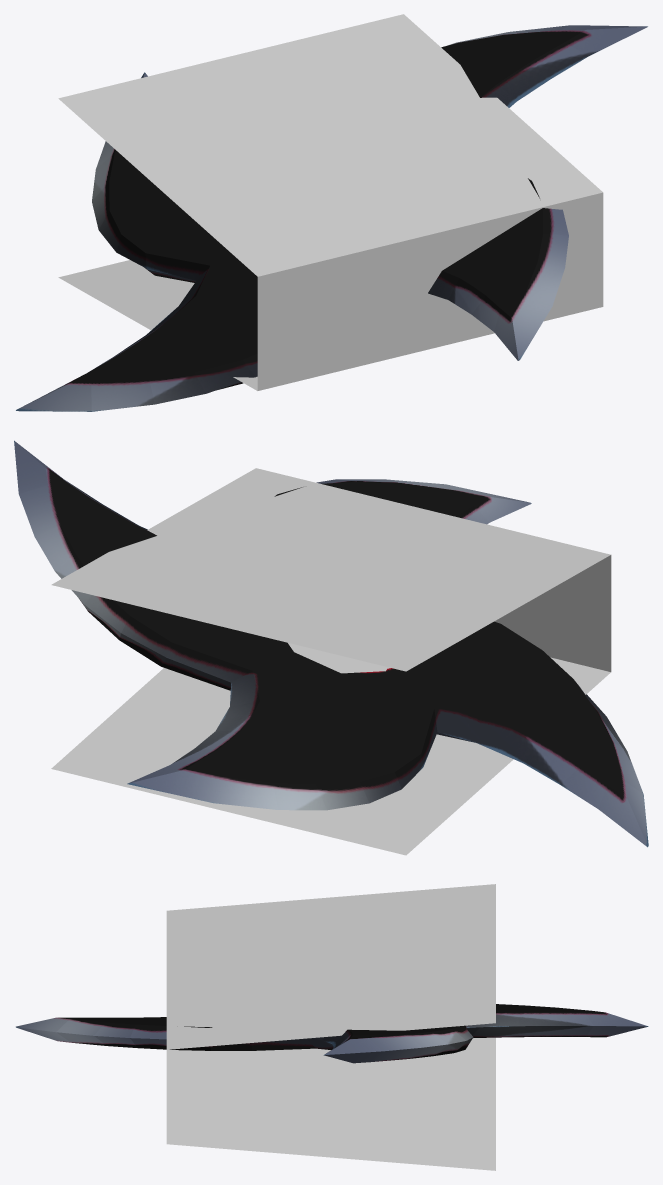
File: Shuriken.fbx
3 renders of one model, top to bottom at view 1: azimuth 30°, elevation 25°; view 2: azimuth 150°, elevation 25°; view 3: azimuth 270°, elevation 25°, orthographic. The views are drawn at different scales.
Parts seen in each view (by area): view 1: Cube, Circle_000; view 2: Cube, Circle_000; view 3: Cube, Circle_000.
Boxes of the visible parts, x1=… form: Cube: x1=58, y1=14, x2=603, y2=390; Circle_000: x1=16, y1=25, x2=647, y2=411; Cube: x1=51, y1=468, x2=611, y2=855; Circle_000: x1=14, y1=440, x2=648, y2=847; Cube: x1=166, y1=884, x2=495, y2=1170; Circle_000: x1=16, y1=1004, x2=648, y2=1063.
Size of the model in its own units: 116 by 42.27 by 124.
